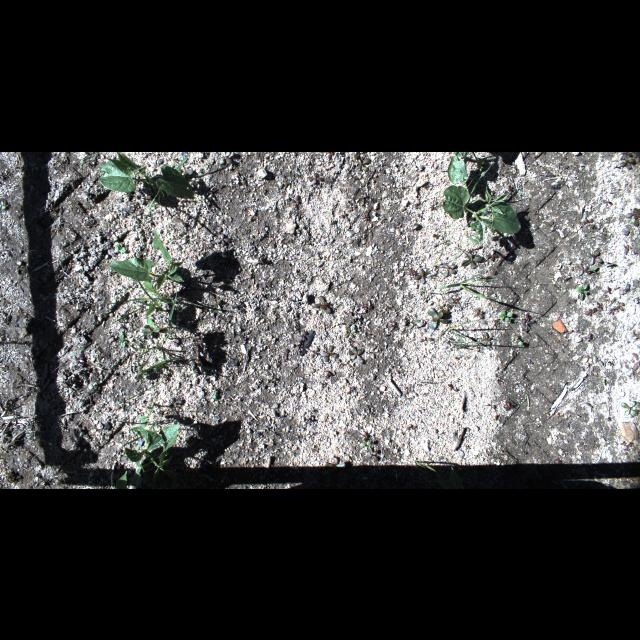crop: (98, 151, 194, 201)
weed: (105, 226, 185, 286), (123, 402, 179, 481), (132, 270, 178, 336), (464, 190, 522, 242), (437, 180, 481, 218), (135, 355, 171, 379), (446, 152, 470, 184), (452, 279, 492, 297), (148, 184, 162, 216), (449, 325, 467, 347), (476, 156, 490, 178), (116, 469, 128, 489), (208, 298, 222, 314), (415, 462, 437, 472), (576, 282, 588, 300), (497, 308, 513, 320), (448, 466, 457, 482), (134, 346, 152, 354), (168, 304, 176, 322), (438, 311, 448, 323), (114, 242, 126, 252), (343, 327, 352, 338), (436, 284, 452, 290), (462, 259, 476, 265), (470, 340, 488, 344), (460, 320, 470, 326), (119, 313, 129, 319), (472, 256, 482, 262), (358, 442, 372, 446), (438, 480, 444, 488), (156, 344, 164, 350), (587, 266, 599, 270), (518, 338, 524, 344), (22, 326, 28, 332), (429, 310, 435, 316), (0, 204, 6, 210), (622, 404, 630, 408), (122, 300, 130, 304), (473, 454, 477, 460), (28, 286, 32, 292), (367, 158, 369, 164)
